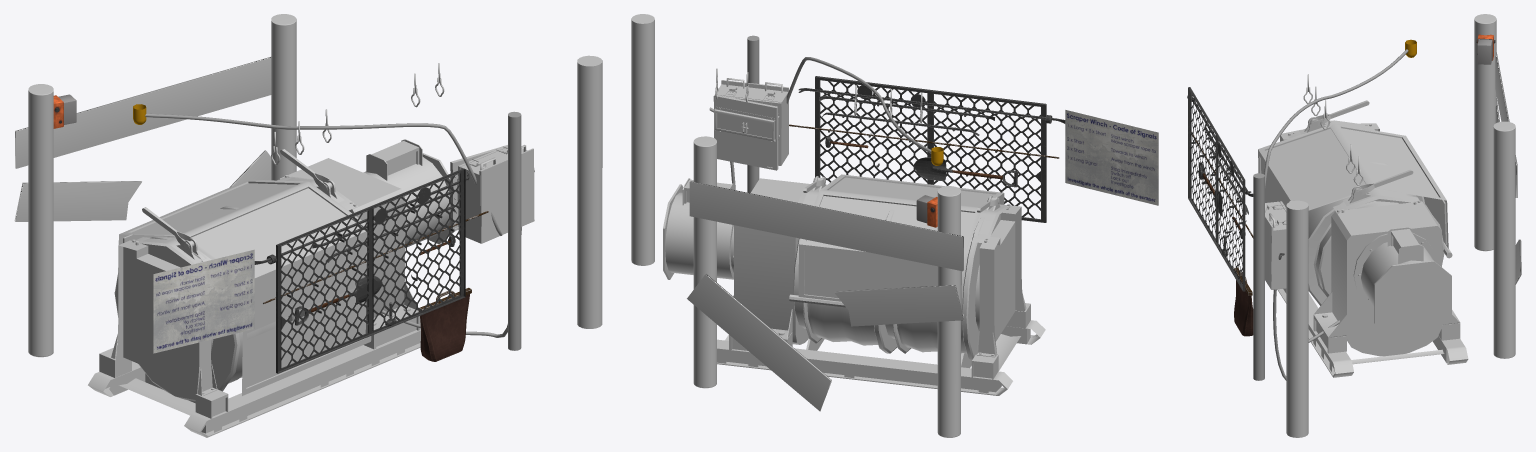
The model's file is Bottom gulley winch broken plank.fbx.
3 renders of one model, left to right at view 1: azimuth 30°, elevation 25°; view 2: azimuth 150°, elevation 25°; view 3: azimuth 270°, elevation 25°, orthographic. The views are drawn at different scales.
Visible parts, largest first — view 1: Winch_001, Winch_006, Wood_barricades_015, Tool_rack_001__2_, Code_of_signals.002, Cylinder_004, Wood_barricades_021.002, Cylinder_011, Power_box_not_locked__Hazard_.003, Power_Box.003, BezierCurve_018, Signaling_Device_053; view 2: Winch_001, Wood_barricades_015, Tool_rack_001__2_, Winch_006, Wood_barricades_021.002, Code_of_signals.002, Cylinder_004, Power_box_not_locked__Hazard_.003, Power_Box.003, Cylinder_011, BezierCurve_018, Signaling_Device_053; view 3: Winch_001, Winch_006, Wood_barricades_015, Tool_rack_001__2_, Cylinder_004, Cylinder_011, Power_box_not_locked__Hazard_.003, Power_Box.003, BezierCurve_018, Signaling_Device_053, BezierCurve_003, Wood_barricades_021.002.
Boxes of the visible parts, x1,y1,x2,y2 form: Winch_001: [88, 139, 454, 437]; Winch_006: [118, 179, 371, 395]; Wood_barricades_015: [15, 14, 296, 357]; Tool_rack_001__2_: [254, 168, 488, 373]; Code_of_signals.002: [153, 249, 254, 353]; Cylinder_004: [577, 55, 602, 328]; Wood_barricades_021.002: [14, 150, 271, 221]; Cylinder_011: [508, 111, 521, 350]; Power_box_not_locked__Hazard_.003: [450, 145, 534, 243]; Power_Box.003: [457, 145, 534, 243]; BezierCurve_018: [145, 113, 502, 235]; Signaling_Device_053: [53, 94, 76, 128]; Winch_001: [663, 176, 1045, 395]; Wood_barricades_015: [689, 136, 963, 437]; Tool_rack_001__2_: [789, 76, 1065, 222]; Winch_006: [798, 174, 1004, 308]; Wood_barricades_021.002: [687, 274, 963, 411]; Code_of_signals.002: [1065, 110, 1158, 205]; Cylinder_004: [631, 14, 654, 265]; Power_box_not_locked__Hazard_.003: [713, 78, 786, 170]; Power_Box.003: [714, 78, 788, 165]; Cylinder_011: [747, 35, 759, 192]; BezierCurve_018: [786, 57, 931, 153]; Signaling_Device_053: [916, 195, 937, 227]; Winch_001: [1277, 100, 1468, 377]; Winch_006: [1258, 123, 1448, 288]; Wood_barricades_015: [1474, 14, 1517, 358]; Tool_rack_001__2_: [1187, 87, 1253, 336]; Cylinder_004: [1286, 200, 1308, 437]; Cylinder_011: [1253, 173, 1264, 380]; Power_box_not_locked__Hazard_.003: [1264, 200, 1292, 289]; Power_Box.003: [1265, 201, 1286, 289]; BezierCurve_018: [1264, 49, 1408, 188]; Signaling_Device_053: [1476, 34, 1495, 64]; BezierCurve_003: [1273, 253, 1339, 380]; Wood_barricades_021.002: [1495, 98, 1521, 284].
Bounding box in the file's own units: 358 × 177 × 235.
